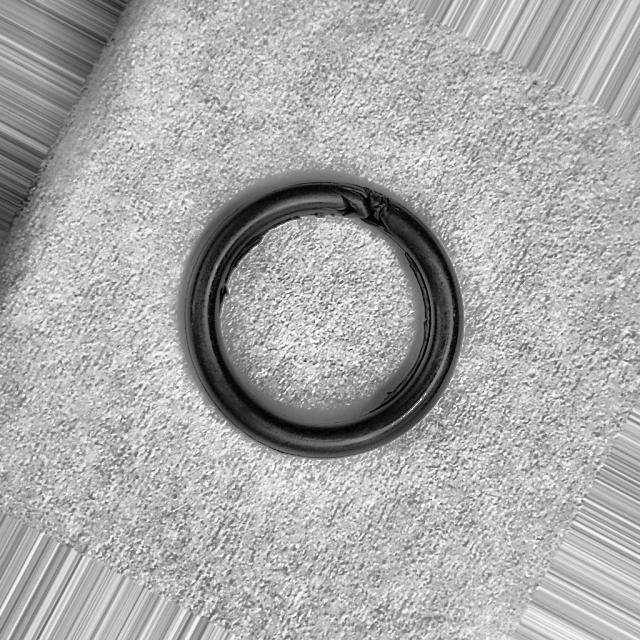切割缺陷: (343, 184, 396, 238), (326, 186, 356, 218)
裂纹: (373, 252, 431, 411), (219, 216, 301, 318), (314, 213, 335, 218)
